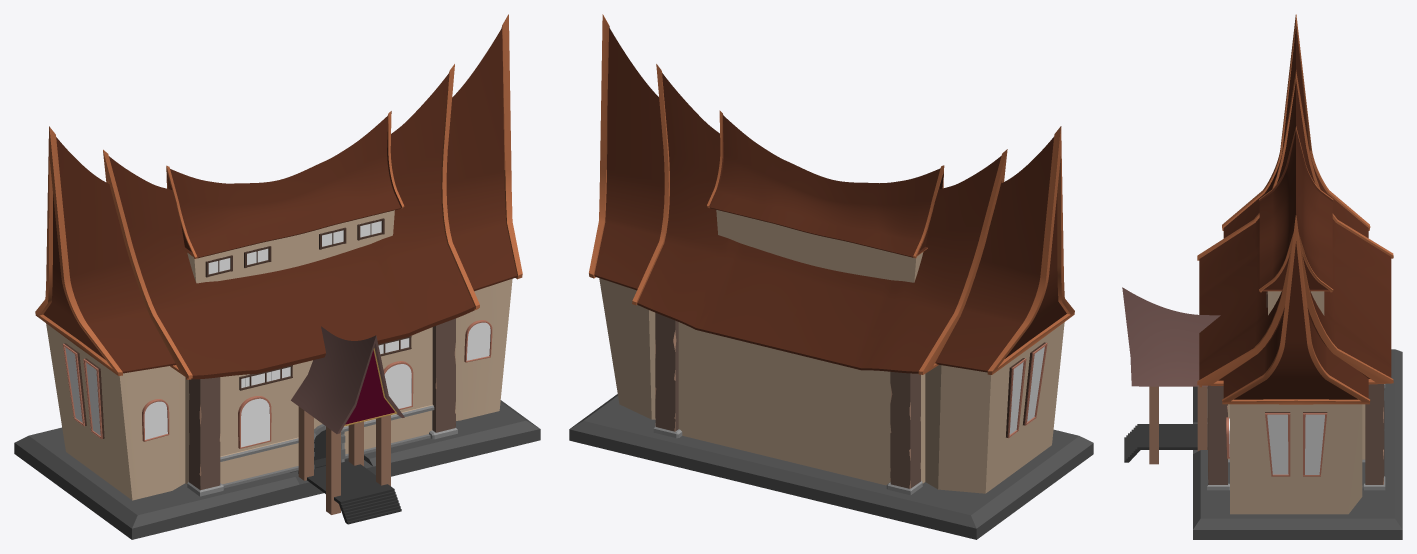
Rendered from rumahgadang.glb.
The picture shows the model from 3 angles, left to right: view 1: azimuth 30°, elevation 25°; view 2: azimuth 150°, elevation 25°; view 3: azimuth 270°, elevation 25°; orthographic projection. The views are drawn at different scales.
Visible parts, largest first — view 1: Cube.007_4, Cube.008_5, Cube.010_8, Cube.292_26, Cube.009_7, Cube_0, Cube.004_2, Cube.014_9, Cube.005_6, Cube.011_27, Cube.027_19, Cube.012_28 (+9 smaller); view 2: Cube.007_4, Cube.008_5, Cube_0, Cube.010_8, Cube.292_26, Cube.009_7, Cube.004_2, Cube.005_6, Cube.044_25, Cube.045_24; view 3: Cube.007_4, Cube.008_5, Cube.010_8, Cube.292_26, Cube.009_7, Cube.014_9, Cube.004_2, Cube.044_25, Cube.027_19, Cube.011_27, Cube.045_24, Cube.005_6.
Part boxes in pixels (x1,y1,x2,y2): Cube.007_4: [103, 64, 479, 379]; Cube.008_5: [35, 14, 522, 375]; Cube.010_8: [46, 279, 512, 500]; Cube.292_26: [14, 400, 540, 539]; Cube.009_7: [166, 111, 404, 258]; Cube_0: [185, 327, 434, 488]; Cube.004_2: [189, 318, 455, 490]; Cube.014_9: [291, 326, 404, 433]; Cube.005_6: [187, 210, 394, 283]; Cube.011_27: [298, 406, 390, 514]; Cube.027_19: [298, 459, 401, 524]; Cube.012_28: [241, 364, 411, 447]; Cube.007_4: [632, 64, 1007, 374]; Cube.008_5: [589, 14, 1074, 374]; Cube_0: [678, 322, 925, 485]; Cube.010_8: [599, 278, 1064, 493]; Cube.292_26: [569, 394, 1093, 539]; Cube.009_7: [707, 110, 944, 258]; Cube.004_2: [655, 312, 920, 488]; Cube.005_6: [716, 210, 923, 282]; Cube.044_25: [1006, 342, 1045, 437]; Cube.045_24: [1007, 343, 1047, 438]; Cube.007_4: [1197, 70, 1393, 387]; Cube.008_5: [1222, 14, 1370, 404]; Cube.010_8: [1230, 404, 1362, 514]; Cube.292_26: [1193, 349, 1402, 539]; Cube.009_7: [1259, 126, 1333, 292]; Cube.014_9: [1122, 287, 1220, 386]; Cube.004_2: [1208, 384, 1384, 484]; Cube.044_25: [1265, 412, 1327, 474]; Cube.027_19: [1124, 424, 1207, 462]; Cube.011_27: [1149, 386, 1207, 464]; Cube.045_24: [1265, 413, 1327, 476]; Cube.005_6: [1268, 291, 1324, 315].
Bounding box in the file's own units: 3.86 × 3.03 × 2.28.
22 materials, 1 textured.
